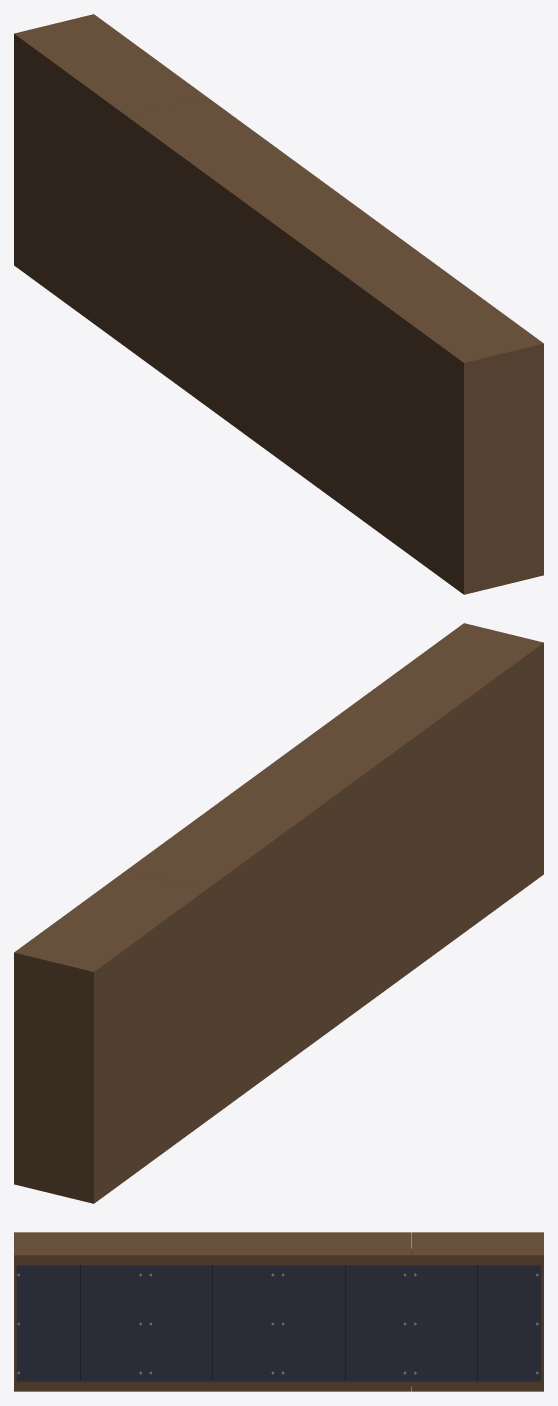
File: board.fbx
3 renders of one model, top to bottom at view 1: azimuth 30°, elevation 25°; view 2: azimuth 150°, elevation 25°; view 3: azimuth 270°, elevation 25°, orthographic. The views are drawn at different scales.
Visible parts, largest first — view 1: Cube; view 2: Cube; view 3: Cube, Cylinder.
Part boxes in pixels (x1,y1,x2,y2): Cube: [14, 14, 543, 594]; Cube: [14, 623, 543, 1203]; Cube: [14, 1232, 543, 1391]; Cylinder: [17, 1273, 538, 1374].
Size of the model in its own units: 412 by 1123 by 3952.
